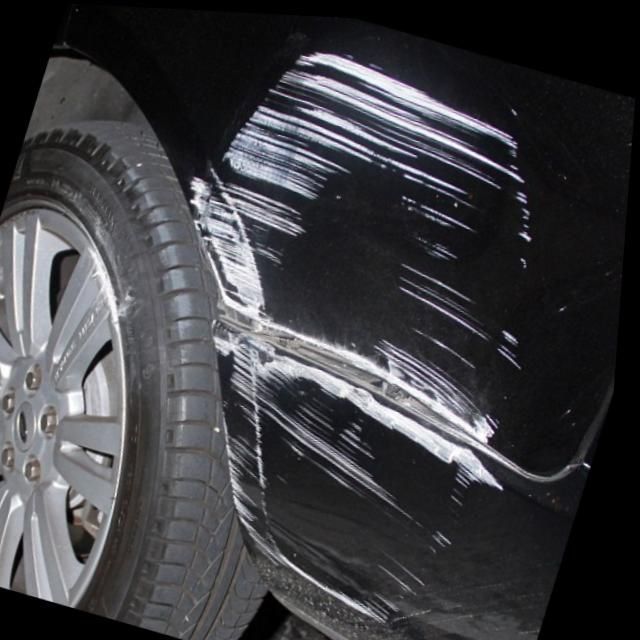Scratch: (188, 49, 526, 624)
